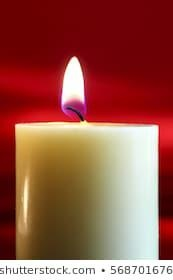fire: (60, 53, 88, 116)
